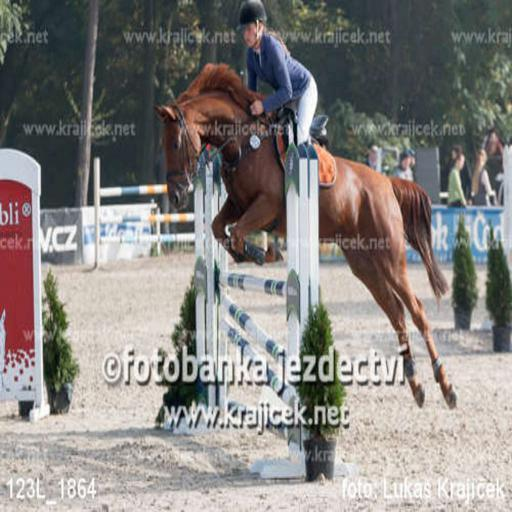horse: (154, 62, 456, 412)
